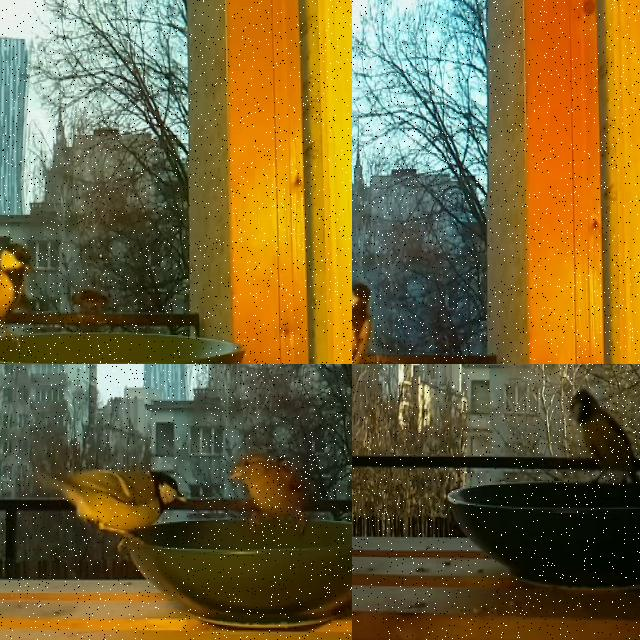Bogatka: (32, 461, 185, 541), (0, 241, 34, 353), (352, 285, 374, 364)
Modraszka: (567, 389, 640, 487)
Wrobel: (228, 453, 321, 529)
